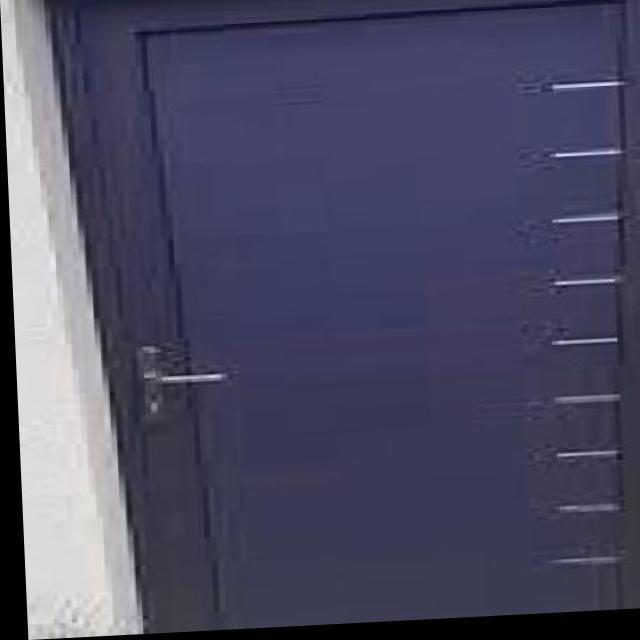door_handle: (127, 371, 234, 397)
